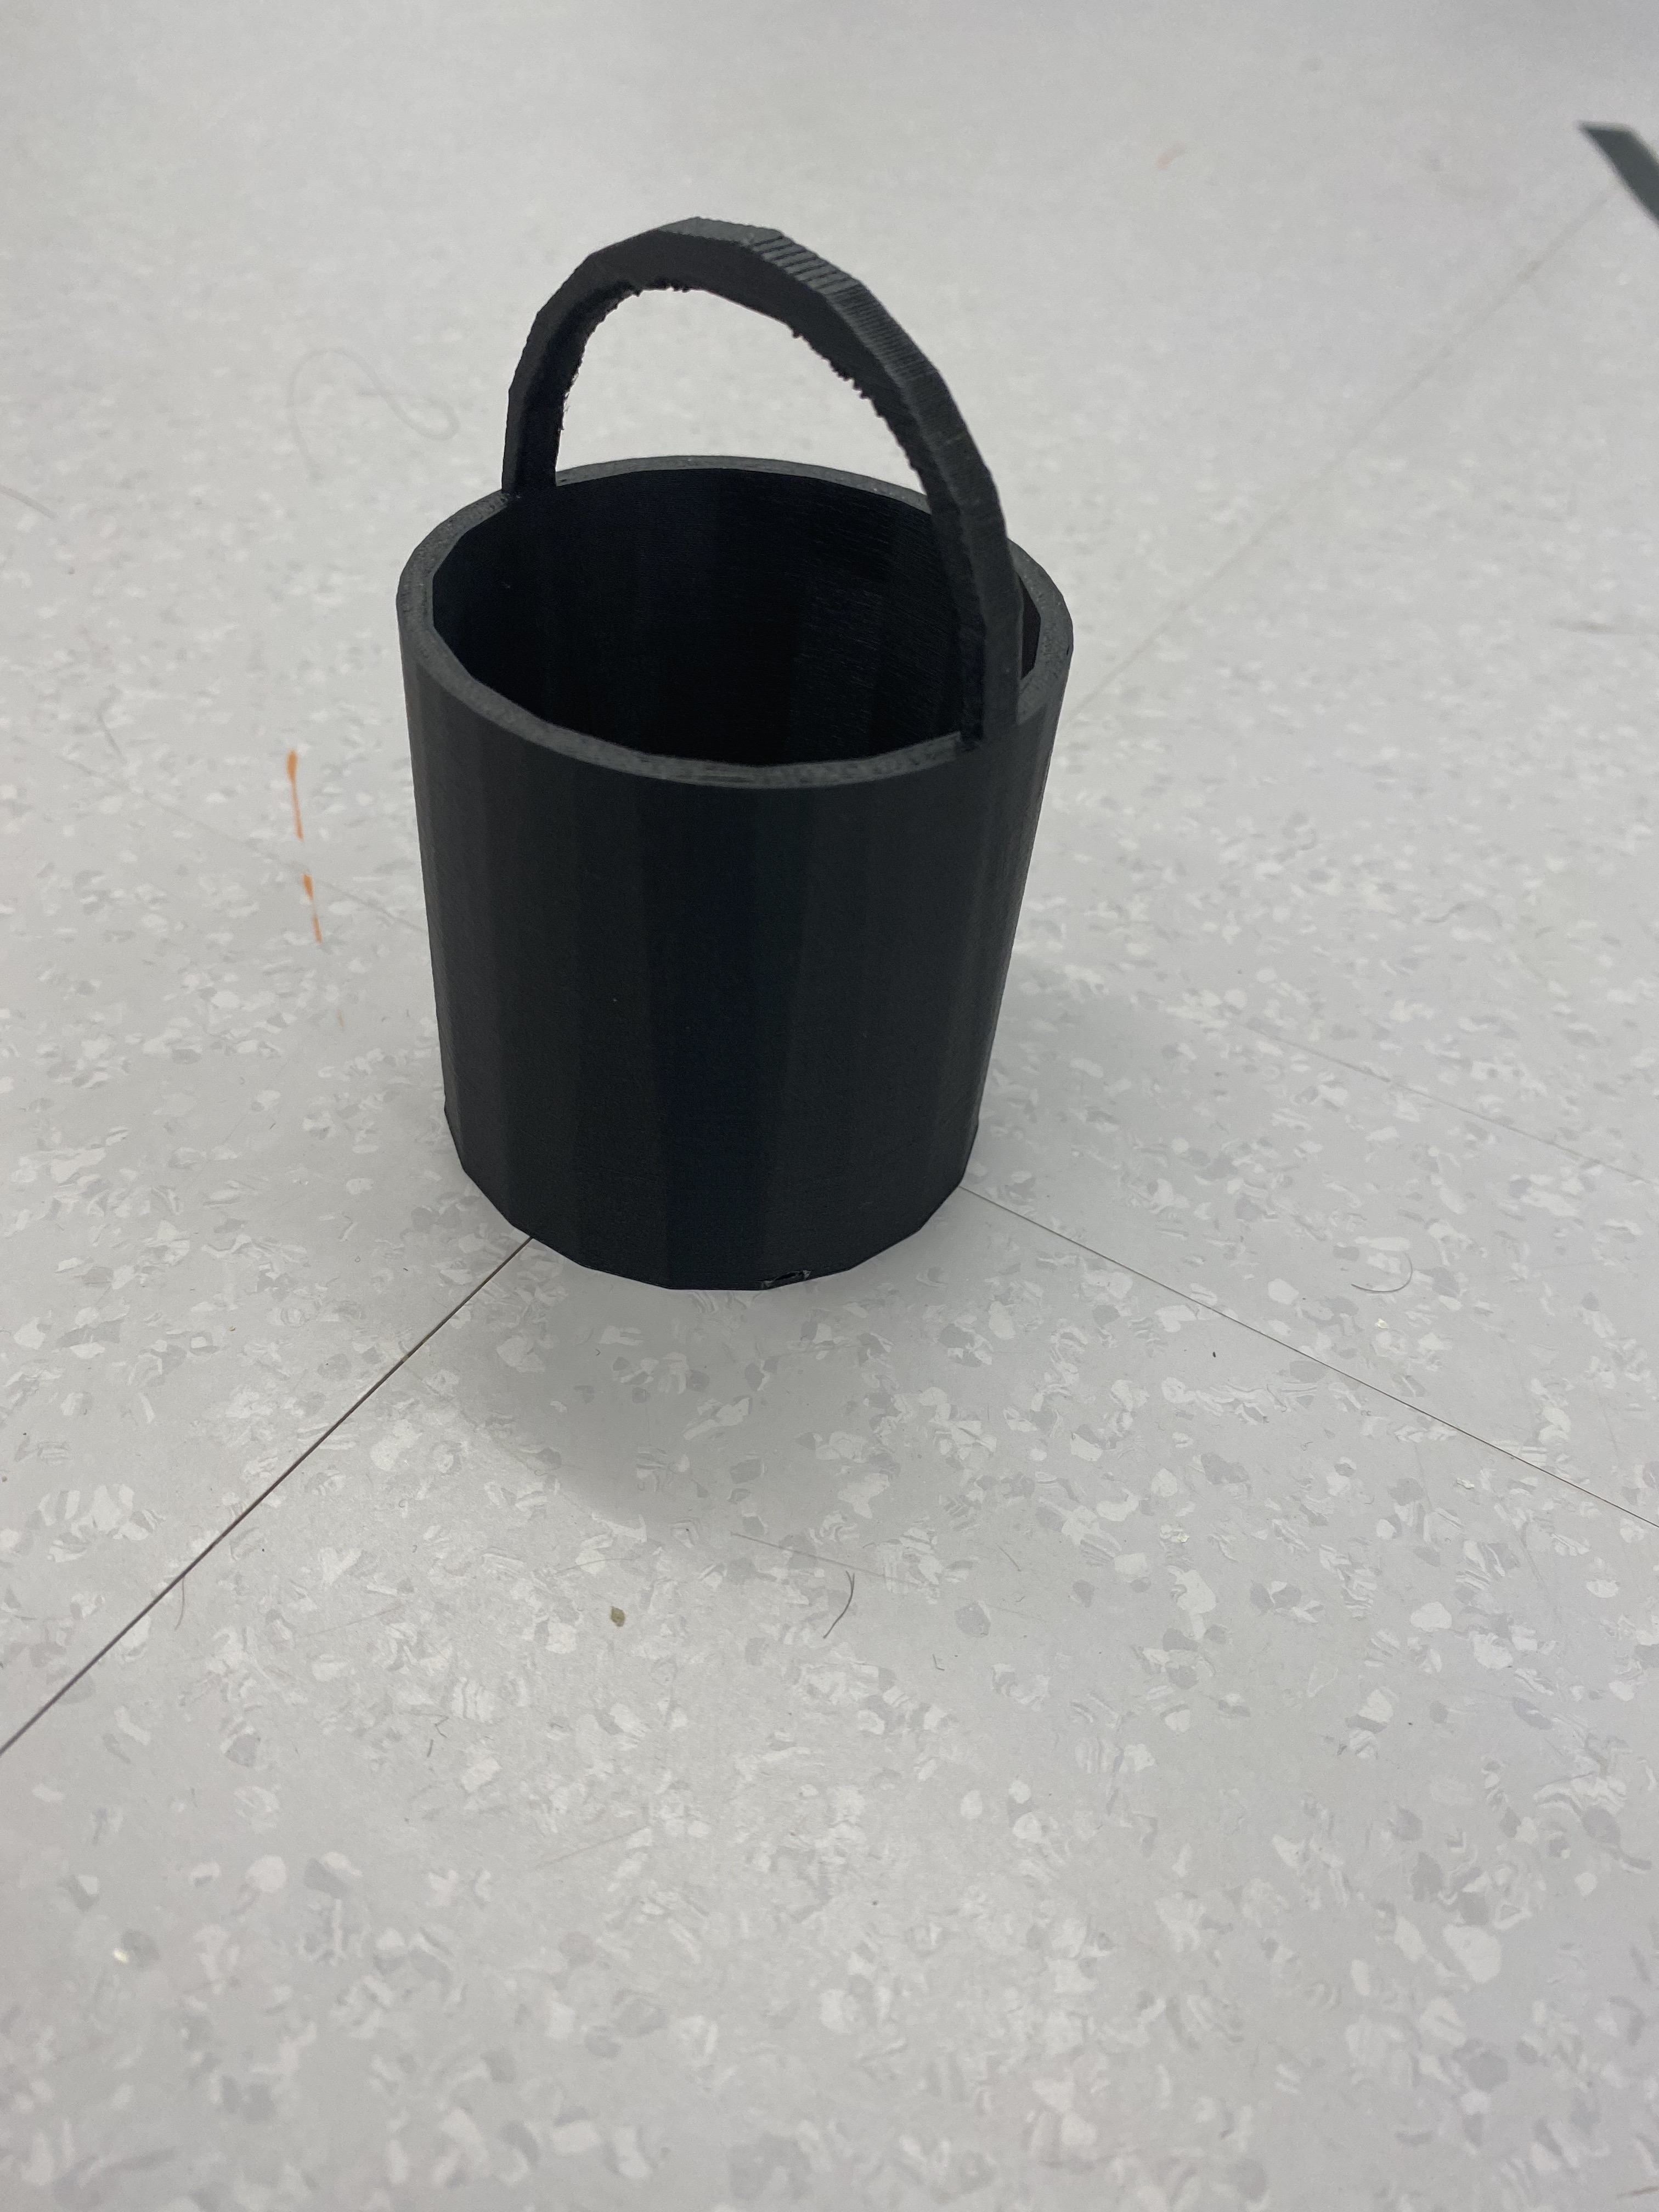bag: (359, 183, 1119, 1348)
